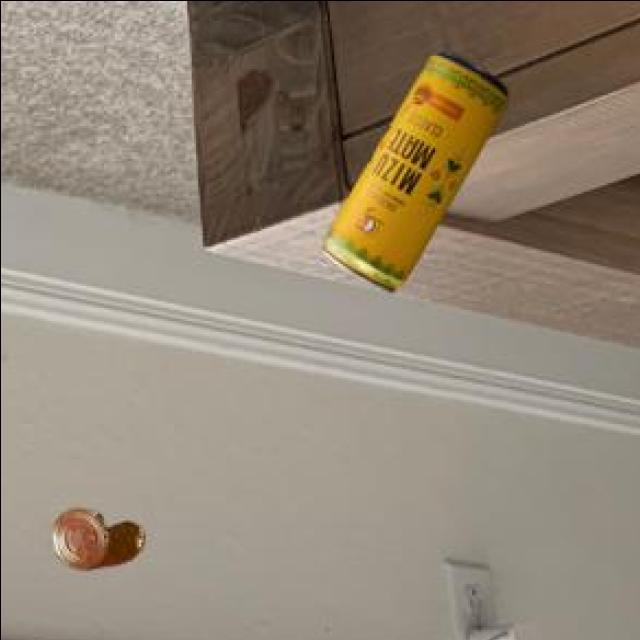logam: (323, 54, 512, 295), (54, 512, 146, 571)
